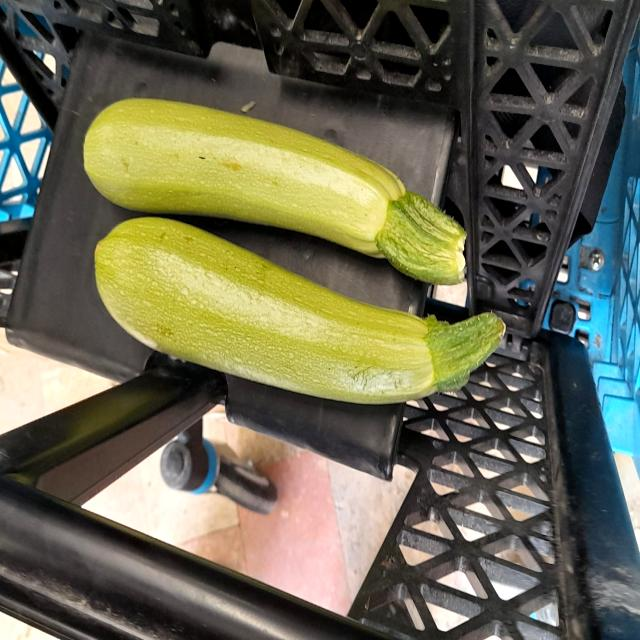zucchini: (85, 202, 513, 410), (73, 68, 474, 287)
